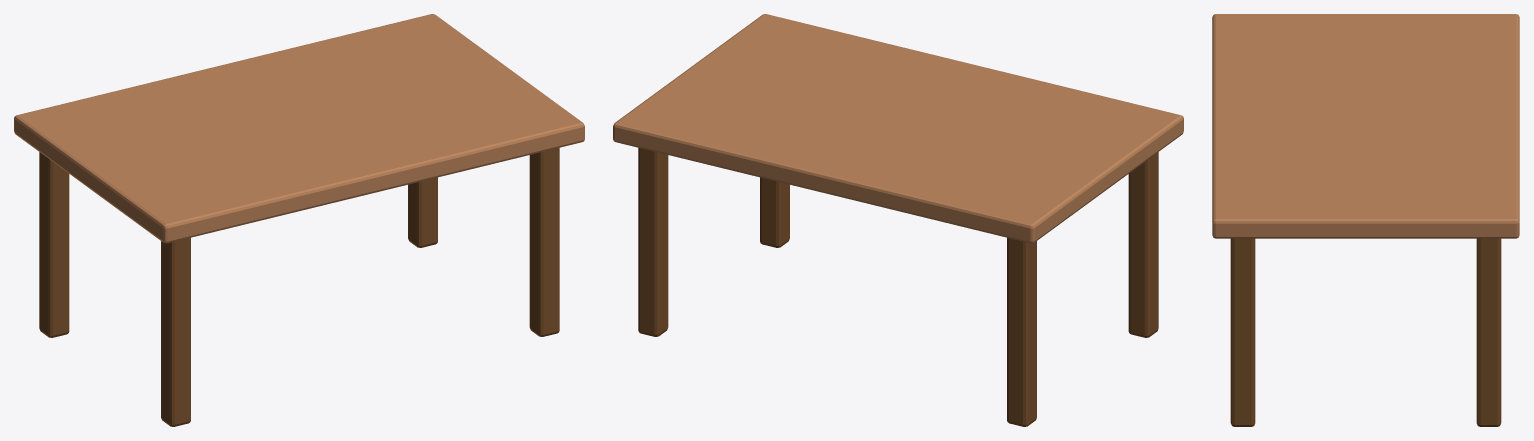
File: Kitchen_Table.fbx
The picture shows the model from 3 angles, left to right: view 1: azimuth 30°, elevation 25°; view 2: azimuth 150°, elevation 25°; view 3: azimuth 270°, elevation 25°; orthographic projection.
Parts seen in each view (by area): view 1: Table; view 2: Table; view 3: Table.
Part boxes in pixels (bbox=[...]): Table: bbox=[14, 14, 584, 426]; Table: bbox=[613, 14, 1183, 426]; Table: bbox=[1212, 14, 1519, 426].
Size of the model in its own units: 1.6 by 0.775 by 1.
